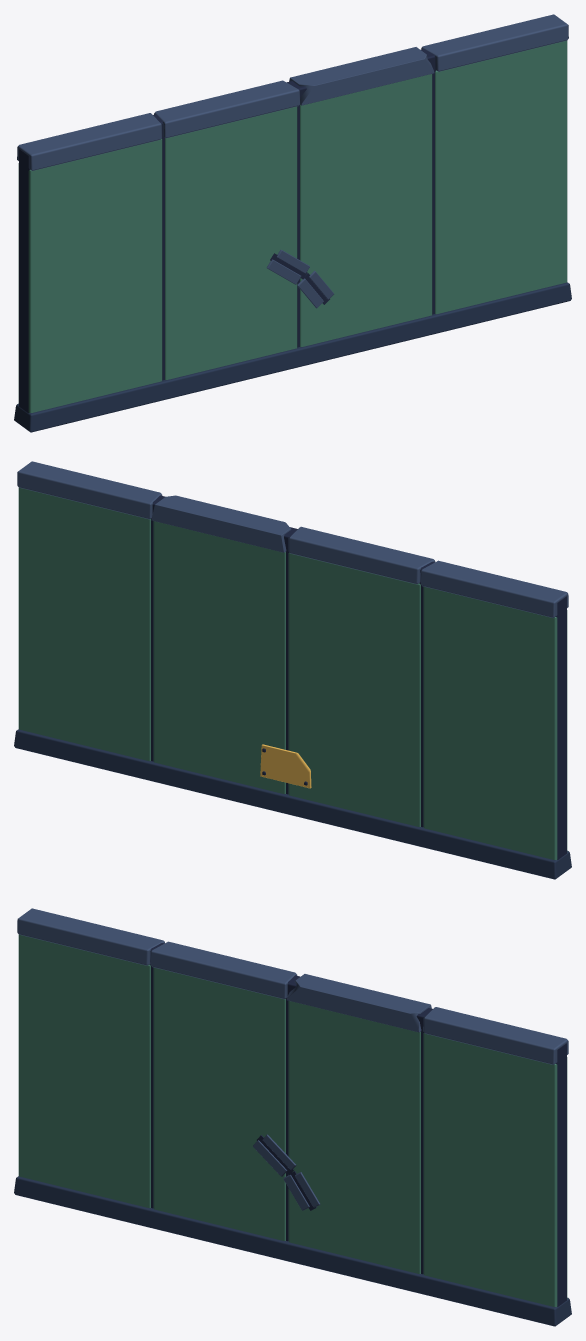
File: wall_green_815_400_33.glb
3 views of the same model, one above another, from view 1: azimuth 30°, elevation 25°; view 2: azimuth 150°, elevation 25°; view 3: azimuth 330°, elevation 25° (orthographic).
Visible parts, largest first — view 1: wall_green_815_400_33; view 2: wall_green_815_400_33; view 3: wall_green_815_400_33.
Part boxes in pixels (x1,y1,x2,y2): wall_green_815_400_33: (14, 14, 571, 432); wall_green_815_400_33: (14, 461, 571, 879); wall_green_815_400_33: (14, 908, 571, 1326).
Size of the model in its own units: 8.19 by 4 by 0.4482.
